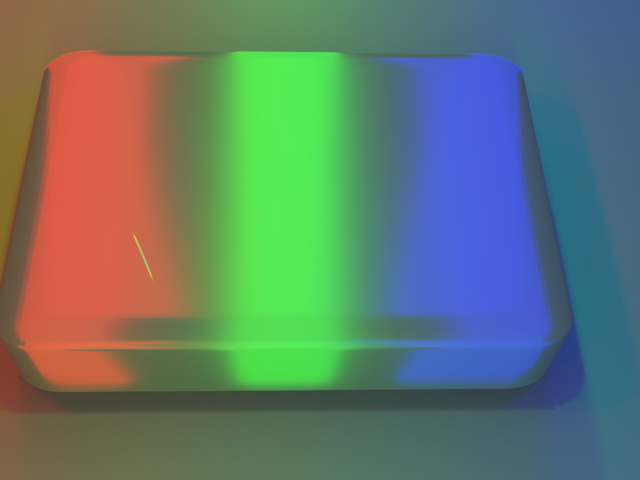scratch: (1, 173, 267, 352)
